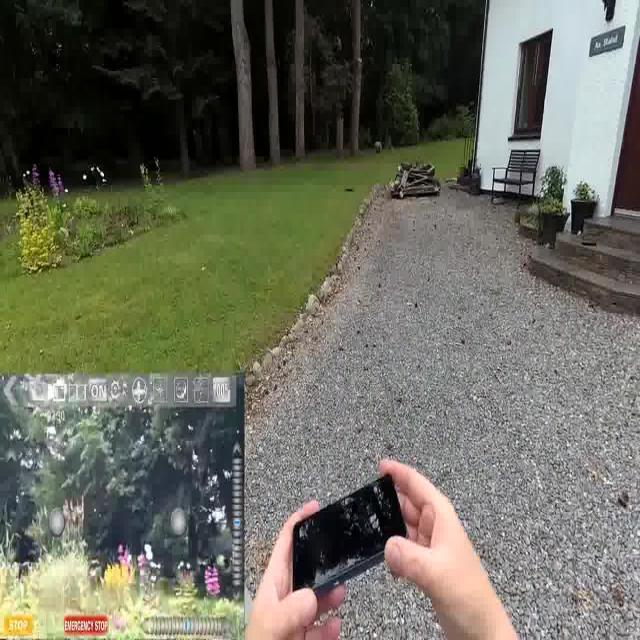drones: (340, 176, 355, 202)
